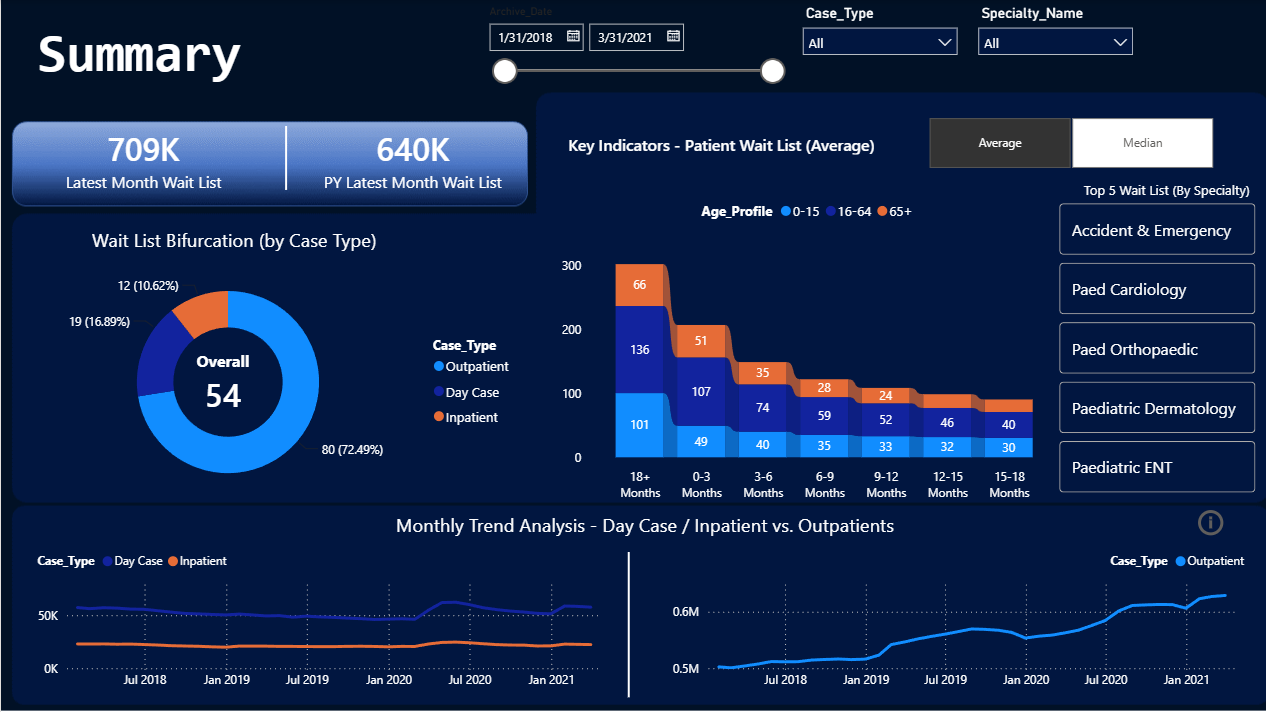

The dashboard page shown, as its layout file describes it:
{"tool":"powerbi","page":{"name":"Summary","canvas":[1280,720],"ordinal":0},"visuals":[{"type":"cardVisual","fields":{"Data":["All_Data.Latest Month Wait List1"]},"box":[0,112,288,96],"z":0},{"type":"cardVisual","fields":{"Data":["All_Data.Latest Month Wait List"]},"box":[288,112,256,96],"z":1000},{"type":"slicer","fields":{"Values":["Cal Method.Cal Method"]},"box":[912,112,336,64],"z":2000},{"type":"donutChart","fields":{"Y":["All_Data.Avg/Med Wait List"],"Category":["All_Data.Case_Type"]},"box":[16.7,258.9,510.3,252.9],"z":3000},{"type":"columnChart","fields":{"Category":["All_Data.Time_Bands"],"Y":["All_Data.Avg/Med Wait List"],"Series":["All_Data.Age_Profile"]},"box":[560,192,512,320],"z":4000},{"type":"advancedSlicerVisual","fields":{"Values":["All_Data.Specialty_Name"]},"box":[1063.4,200.1,208.4,304.3],"z":5000},{"type":"cardVisual","fields":{"Data":["All_Data.NodataRight"]},"box":[734.3,578.8,545.7,92.6],"z":6000},{"type":"lineChart","fields":{"Series":["All_Data.Case_Type"],"Category":["All_Data.Archive_Date"],"Y":["Sum(All_Data.Total)"]},"box":[671.9,546.4,592.3,157.6],"z":7000},{"type":"slicer","fields":{"Values":["All_Data.Archive_Date"]},"box":[480,0,320,96],"z":8000},{"type":"slicer","fields":{"Values":["All_Data.Case_Type"]},"box":[800,0,176,80],"z":9000},{"type":"slicer","fields":{"Values":["All_Data.Specialty_Name"]},"box":[976,0,176,80],"z":10000},{"type":"textbox","box":[32,16,352,80],"z":11000},{"type":"cardVisual","fields":{"Data":["All_Data.NoDataLeft"]},"box":[43,578.8,545.7,92.6],"z":12000},{"type":"lineChart","fields":{"Series":["All_Data.Case_Type"],"Category":["All_Data.Archive_Date"],"Y":["Sum(All_Data.Total)"]},"box":[32.1,546.4,592.3,157.6],"z":13000},{"type":"shape","box":[279.6,127.5,15.4,64.5],"z":14000},{"type":"cardVisual","fields":{"Data":["All_Data.Avg/Med Wait List"]},"box":[176,304,112,128],"z":15000},{"type":"cardVisual","fields":{"Data":["All_Data.Dynamic Title"]},"box":[544,112,368,64],"z":16000},{"type":"textbox","box":[31.8,224.1,407.3,34.8],"z":17000},{"type":"textbox","box":[99.5,511.2,1100.4,35.2],"z":18000},{"type":"shape","box":[617.8,557.2,31.8,146.9],"z":19000},{"type":"textbox","box":[860.1,177.3,405.6,34.6],"z":20000},{"type":"actionButton","box":[1203.9,511,59.5,34.7],"z":21000}]}

Visuals, with their boxes in screenshot pixels (x1, y1, x2, y2), scaled from the page's 1280x720 canvas onto the 1266x712 screenshot:
cardVisual - All_Data.Latest Month Wait List1: 0:111:285:206
cardVisual - All_Data.Latest Month Wait List: 285:111:538:206
slicer - Cal Method.Cal Method: 902:111:1234:174
donutChart - All_Data.Avg/Med Wait List x All_Data.Case_Type: 17:256:521:506
columnChart - All_Data.Time_Bands x All_Data.Avg/Med Wait List: 554:190:1060:506
advancedSlicerVisual - All_Data.Specialty_Name: 1052:198:1258:499
cardVisual - All_Data.NodataRight: 726:572:1265:664
lineChart - All_Data.Case_Type x All_Data.Archive_Date: 665:540:1250:696
slicer - All_Data.Archive_Date: 475:0:791:95
slicer - All_Data.Case_Type: 791:0:965:79
slicer - All_Data.Specialty_Name: 965:0:1139:79
textbox: 32:16:380:95
cardVisual - All_Data.NoDataLeft: 43:572:582:664
lineChart - All_Data.Case_Type x All_Data.Archive_Date: 32:540:618:696
shape: 277:126:292:190
cardVisual - All_Data.Avg/Med Wait List: 174:301:285:427
cardVisual - All_Data.Dynamic Title: 538:111:902:174
textbox: 31:222:434:256
textbox: 98:506:1187:540
shape: 611:551:642:696
textbox: 851:175:1252:210
actionButton: 1191:505:1250:540
